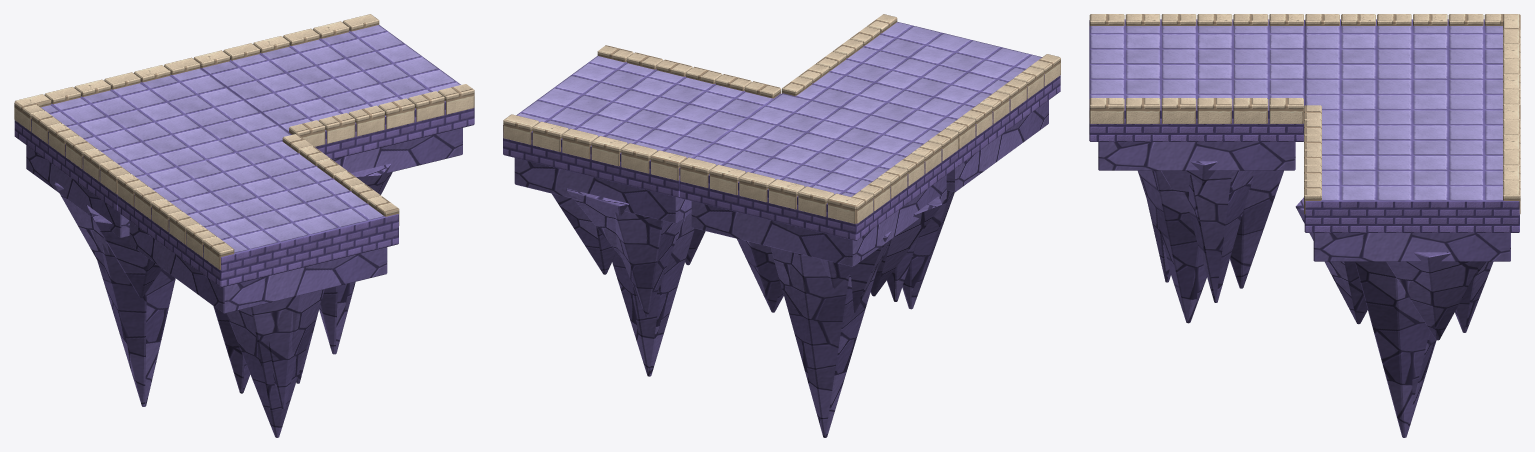
File: Camino_Curva_L.fbx
3 views of the same model, side by side, from view 1: azimuth 30°, elevation 25°; view 2: azimuth 150°, elevation 25°; view 3: azimuth 270°, elevation 25° (orthographic). The views are drawn at different scales.
Visible parts, largest first — view 1: Mod_Camino_Curva_L; view 2: Mod_Camino_Curva_L; view 3: Mod_Camino_Curva_L.
Boxes of the visible parts, x1=… form: Mod_Camino_Curva_L: x1=14, y1=14, x2=474, y2=437; Mod_Camino_Curva_L: x1=503, y1=14, x2=1060, y2=437; Mod_Camino_Curva_L: x1=1089, y1=14, x2=1520, y2=437.
Bounding box in the file's own units: 12.14 × 9.27 × 12.02.
